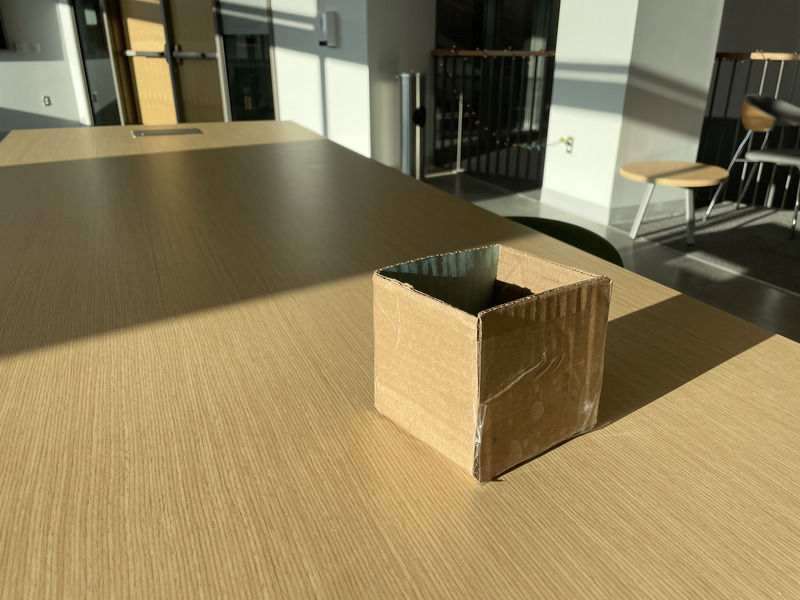payload3: (362, 233, 621, 496)
